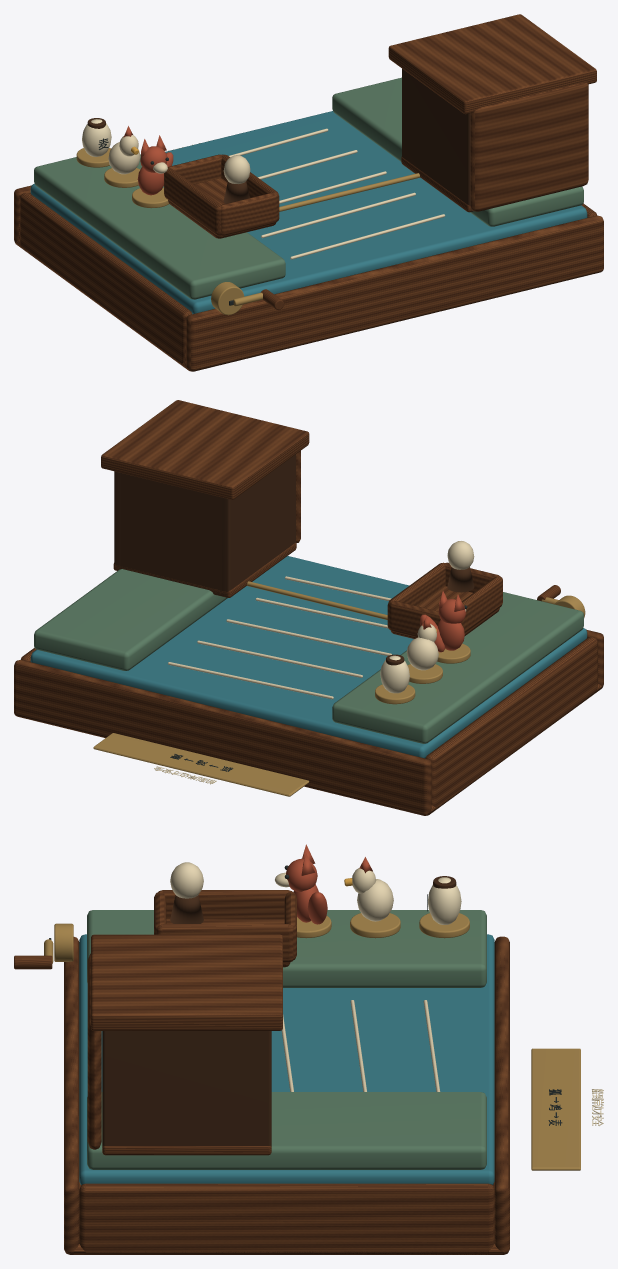
The model's file is P02_RiverCrossing.fbx.
3 views of the same model, one above another, from view 1: azimuth 30°, elevation 25°; view 2: azimuth 150°, elevation 25°; view 3: azimuth 270°, elevation 25° (orthographic). The views are drawn at different scales.
Parts seen in each view (by area): view 1: River bed.001, River box_Front.001, River bank.002, Boathouse door.001, Boathouse rebuilt roof.001, River box_Side.002, Boathouse rebuilt side.002, River bank.003, Boat side.002, Boat end.002, Boat end.003, Boat bottom.001 (+12 smaller); view 2: River bed.001, River box_Back.001, River bank.002, Boathouse rebuilt roof.001, River bank.003, River box_Side.002, Boathouse rebuilt back.001, Boathouse rebuilt side.002, Plaque_狐 → 鸡 → 麦.001, Boat side.002, Boat side.003, Boat end.003 (+13 smaller); view 3: River bed.001, River box_Side.003, River bank.003, Boathouse rebuilt side.003, Boathouse rebuilt roof.001, River bank.002, Plaque_狐 → 鸡 → 麦.001, River box_Back.001, River box_Front.001, Boat side.002, Boathouse door.001, Boat side.003 (+12 smaller).
Boxes of the visible parts, x1,y1,x2,y2 form: River bed.001: (30, 111, 587, 314); River box_Front.001: (186, 215, 603, 371); River bank.002: (34, 154, 285, 299); Boathouse door.001: (470, 82, 588, 211); Boathouse rebuilt roof.001: (388, 14, 596, 114); River box_Side.002: (20, 193, 192, 363); Boathouse rebuilt side.002: (402, 69, 472, 211); River bank.003: (332, 77, 583, 226); Boat side.002: (164, 168, 221, 235); Boat end.002: (221, 192, 277, 235); Boat end.003: (168, 154, 222, 184); Boat bottom.001: (168, 178, 276, 238); River bed.001: (30, 556, 587, 758); River box_Back.001: (14, 660, 431, 815); River bank.002: (332, 592, 583, 743); Boathouse rebuilt roof.001: (101, 400, 309, 499); River bank.003: (34, 569, 227, 670); River box_Side.002: (425, 637, 597, 810); Boathouse rebuilt back.001: (120, 473, 222, 596); Boathouse rebuilt side.002: (222, 454, 295, 597); Plaque_狐 → 鸡 → 麦.001: (93, 733, 309, 796); Boat side.002: (461, 576, 502, 632); Boat side.003: (387, 562, 445, 629); Boat end.003: (389, 601, 440, 637); River bed.001: (79, 934, 494, 1184); River box_Side.003: (79, 1183, 494, 1254); River bank.003: (87, 1092, 486, 1169); Boathouse rebuilt side.003: (102, 1031, 271, 1146); Boathouse rebuilt roof.001: (91, 934, 282, 1030); River bank.002: (87, 910, 486, 987); Plaque_狐 → 鸡 → 麦.001: (531, 1048, 580, 1170); River box_Back.001: (494, 936, 509, 1254); River box_Front.001: (64, 937, 79, 1254); Boat side.002: (158, 890, 292, 919); Boathouse door.001: (87, 953, 101, 1149); Boat side.003: (156, 924, 294, 962).
Size of the model in its own units: 0.785 by 0.3505 by 0.7672.
10 materials, 1 textured.
